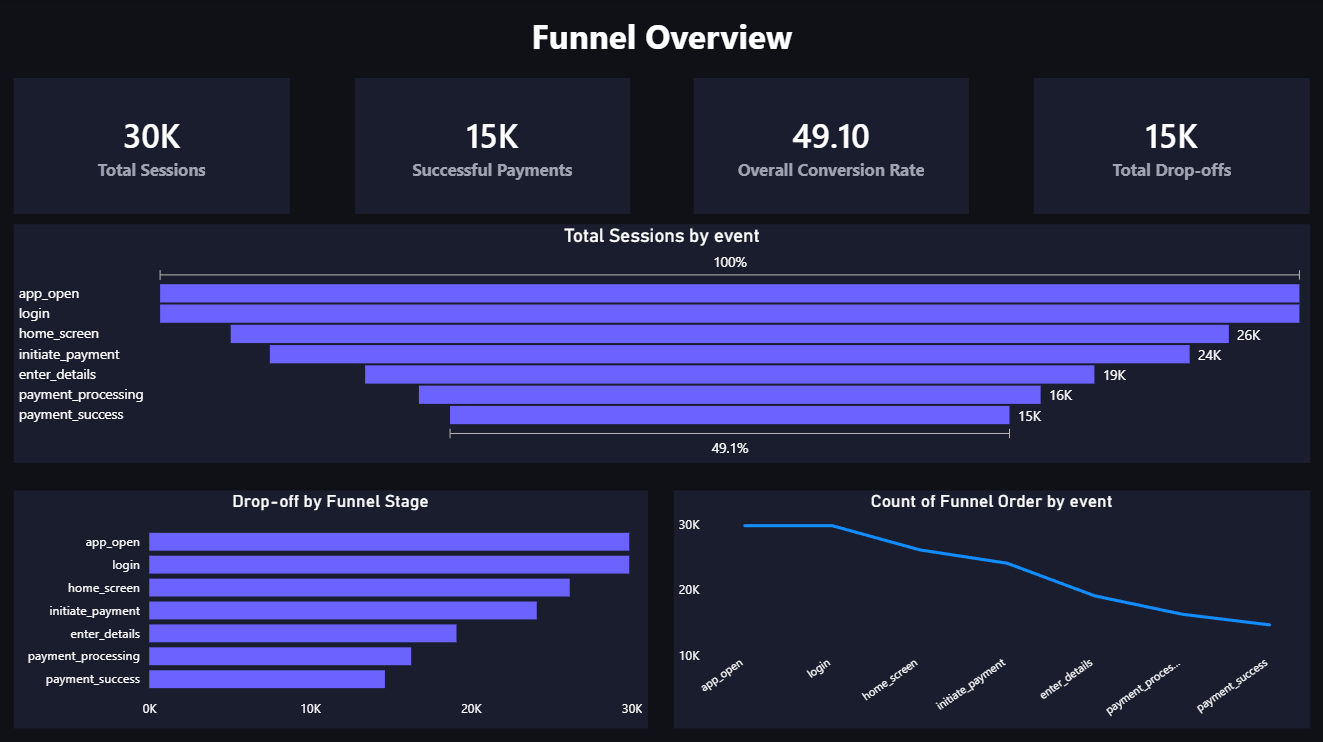

What the dashboard file says about the page in this screenshot:
{"tool":"powerbi","page":{"name":"Funnel Overview","canvas":[1280,720],"ordinal":0},"visuals":[{"type":"cardVisual","fields":{"Data":["fintech_funnel_events.Total Sessions"]},"box":[13.3,77.2,266.6,131.5],"z":0},{"type":"cardVisual","fields":{"Data":["fintech_funnel_events.Overall Conversion Rate"]},"box":[669.6,77.2,265.4,131.5],"z":1000},{"type":"cardVisual","fields":{"Data":["fintech_funnel_events.Successful Payments"]},"box":[342.6,77.2,265.4,131.5],"z":2000},{"type":"cardVisual","fields":{"Data":["fintech_funnel_events.Total Drop-offs"]},"box":[997.7,77.2,266.6,131.5],"z":3000},{"type":"funnel","fields":{"Category":["fintech_funnel_events.event"],"Y":["fintech_funnel_events.Total Sessions"]},"box":[13.3,218.4,1251.1,230.4],"z":4000},{"type":"clusteredBarChart","title":"Drop-off by Funnel Stage","fields":{"Category":["fintech_funnel_events.event"],"Y":["CountNonNull(fintech_funnel_events.session_id)"]},"box":[13.3,475.3,611.7,229.2],"z":5000},{"type":"lineChart","fields":{"Category":["fintech_funnel_events.event"],"Y":["CountNonNull(fintech_funnel_events.Funnel Order)"]},"box":[650.3,475.3,614.1,229.2],"z":6000},{"type":"textbox","box":[13.3,9.7,1251.1,54.3],"z":7000}]}

Visuals, with their boxes in screenshot pixels (x1, y1, x2, y2), scaled from the page's 1280x720 canvas onto the 1323x742 screenshot:
cardVisual - fintech_funnel_events.Total Sessions: (14, 80, 289, 215)
cardVisual - fintech_funnel_events.Overall Conversion Rate: (692, 80, 966, 215)
cardVisual - fintech_funnel_events.Successful Payments: (354, 80, 628, 215)
cardVisual - fintech_funnel_events.Total Drop-offs: (1031, 80, 1307, 215)
funnel - fintech_funnel_events.event x fintech_funnel_events.Total Sessions: (14, 225, 1307, 463)
"Drop-off by Funnel Stage" clusteredBarChart: (14, 490, 646, 726)
lineChart - fintech_funnel_events.event x CountNonNull(fintech_funnel_events.Funnel Order): (672, 490, 1307, 726)
textbox: (14, 10, 1307, 66)
